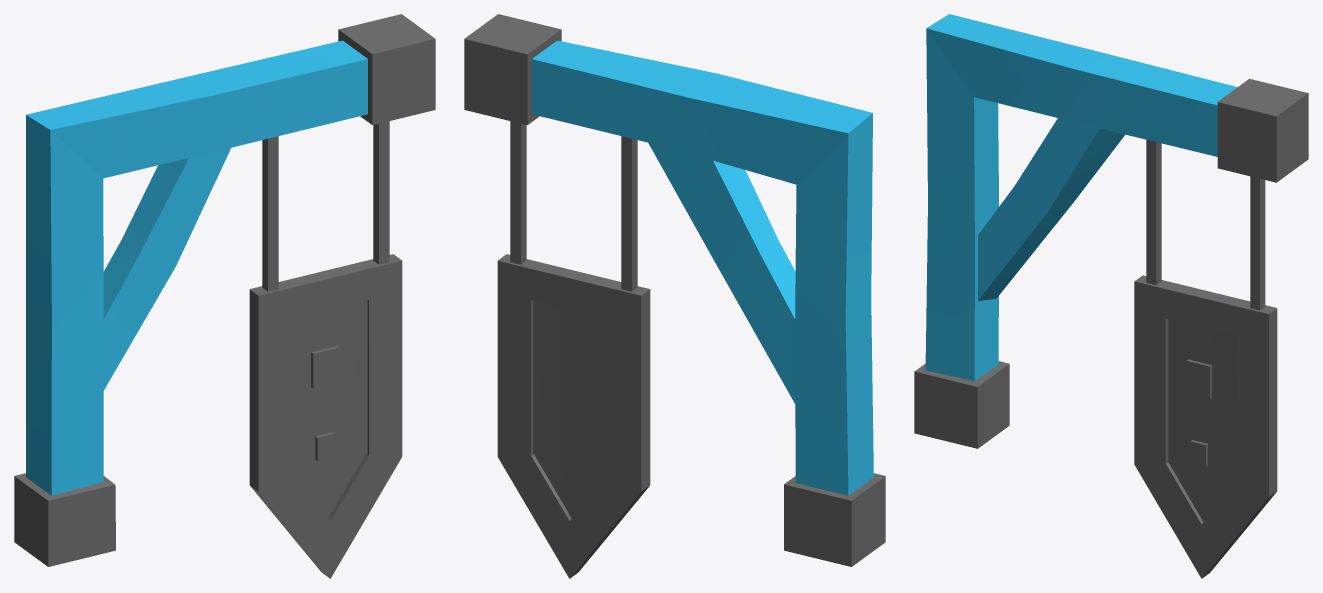
The model's file is Module_01.fbx.
The picture shows the model from 3 angles, left to right: view 1: azimuth 30°, elevation 25°; view 2: azimuth 150°, elevation 25°; view 3: azimuth 330°, elevation 25°; orthographic projection. The views are drawn at different scales.
Visible parts, largest first — view 1: Module_01; view 2: Module_01; view 3: Module_01.
Part boxes in pixels (x1,y1,x2,y2): Module_01: (14,14,435,578); Module_01: (464,14,885,578); Module_01: (914,14,1308,578).
Bounding box in the file's own units: 195 × 254 × 29.77.
